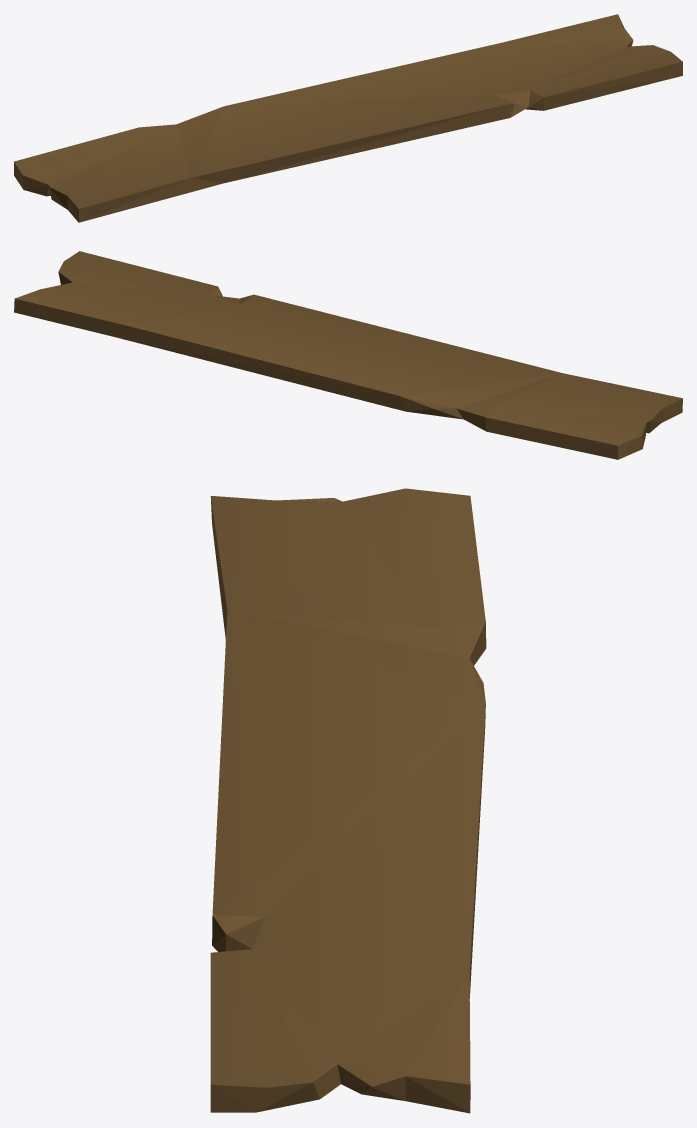
File: Board_08.fbx
The picture shows the model from 3 angles, top to bottom: view 1: azimuth 30°, elevation 25°; view 2: azimuth 150°, elevation 25°; view 3: azimuth 270°, elevation 25°; orthographic projection. The views are drawn at different scales.
Visible parts, largest first — view 1: Board_08; view 2: Board_08; view 3: Board_08.
Part boxes in pixels (box(x1,y1,x2,y2)): Board_08: box(14, 14, 682, 222); Board_08: box(14, 251, 682, 459); Board_08: box(210, 488, 486, 1113).
Size of the model in its own units: 1.57 by 0.0383 by 0.3061.
